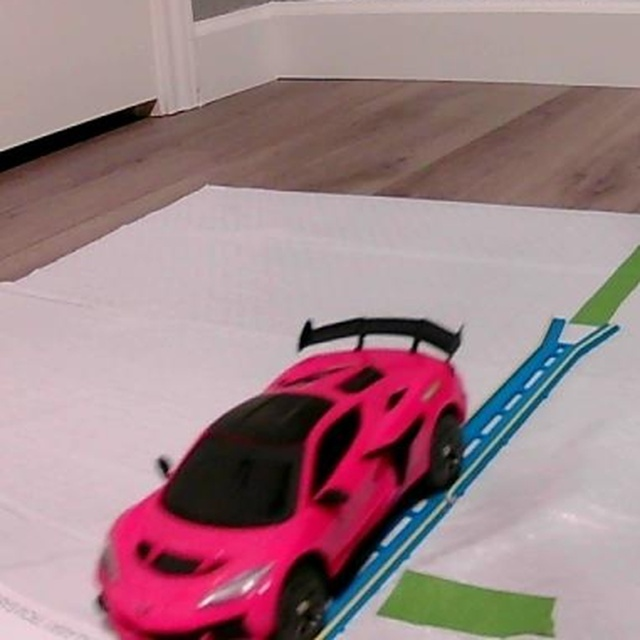tire_rear_driver: (430, 410, 468, 490)
